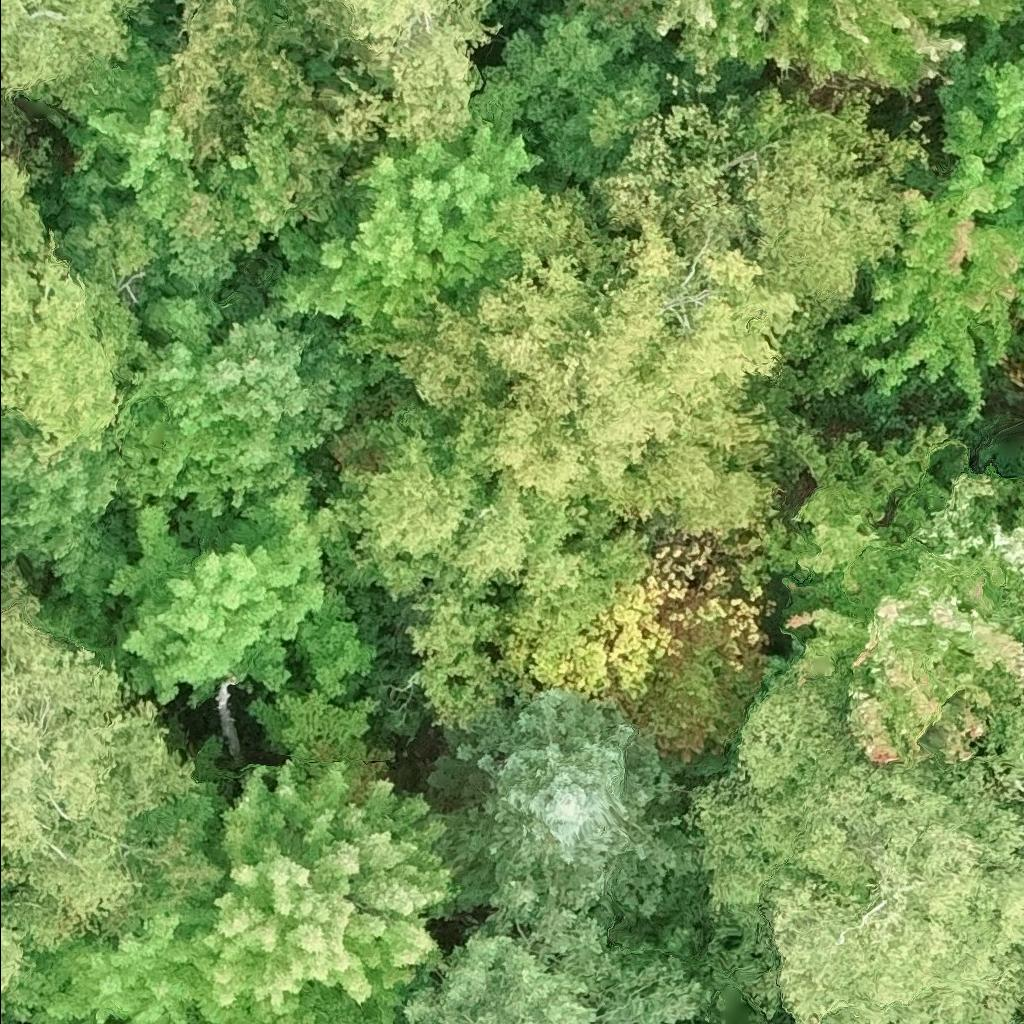crown: (14, 689, 464, 1023), (384, 191, 815, 539), (696, 646, 1023, 1023), (331, 401, 649, 741), (741, 424, 1023, 766), (587, 90, 931, 331), (839, 38, 1023, 427), (0, 648, 217, 963), (104, 478, 379, 710), (268, 126, 543, 354), (429, 689, 675, 918), (137, 296, 364, 512), (81, 109, 339, 282), (408, 884, 712, 1023), (592, 528, 774, 760), (642, 0, 1023, 103), (308, 0, 502, 151), (0, 231, 122, 447), (148, 0, 294, 159), (564, 568, 675, 704), (0, 563, 84, 663), (0, 157, 44, 282), (0, 902, 37, 1019), (0, 1010, 2, 1023)
